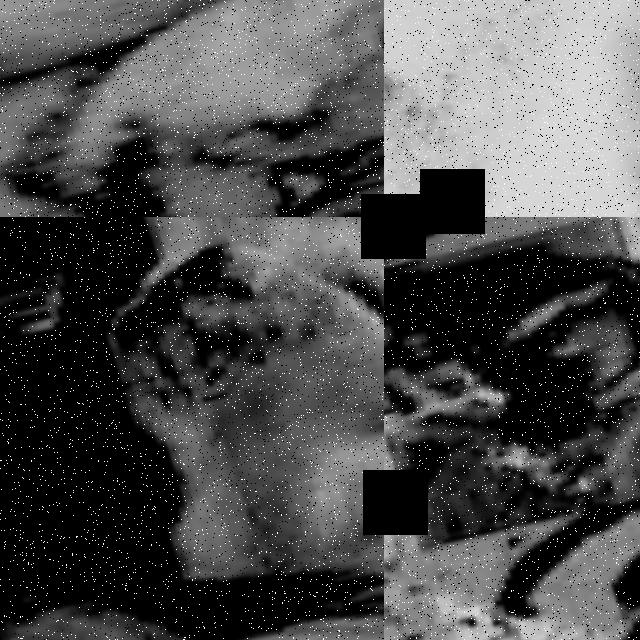dog: (0, 217, 384, 640), (0, 217, 384, 548), (384, 217, 640, 557), (0, 217, 384, 422), (423, 428, 640, 640)
wolf: (0, 0, 384, 217), (0, 0, 384, 184), (384, 0, 640, 217), (0, 143, 384, 217)
